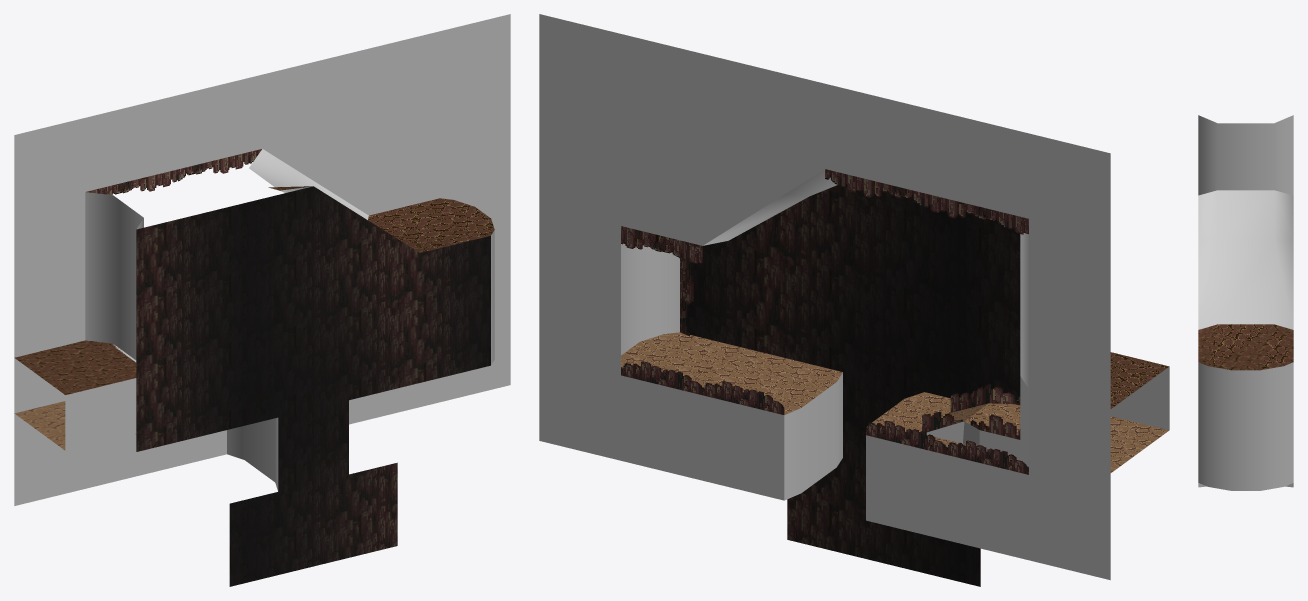
File: Room3.2.fbx
3 renders of one model, left to right at view 1: azimuth 30°, elevation 25°; view 2: azimuth 150°, elevation 25°; view 3: azimuth 270°, elevation 25°, orthographic. The views are drawn at different scales.
Parts seen in each view (by area): view 1: pasted__polySurface10; view 2: pasted__polySurface10; view 3: pasted__polySurface10.
Boxes of the visible parts, x1,y1,x2,y2 form: pasted__polySurface10: (14,14,510,586); pasted__polySurface10: (539,14,1169,586); pasted__polySurface10: (1198,115,1293,490).
Bounding box in the file's own units: 28 × 24.49 × 5.
